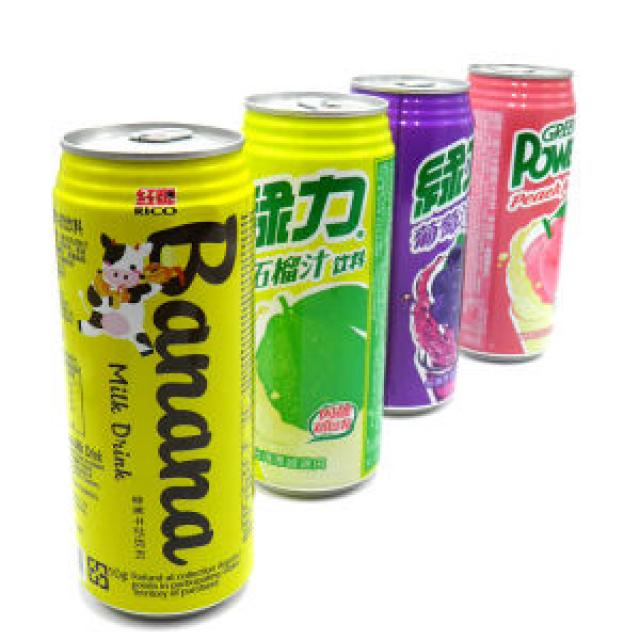non-organic waste: (51, 114, 272, 632), (230, 71, 413, 524), (346, 40, 489, 429), (436, 54, 594, 371)
